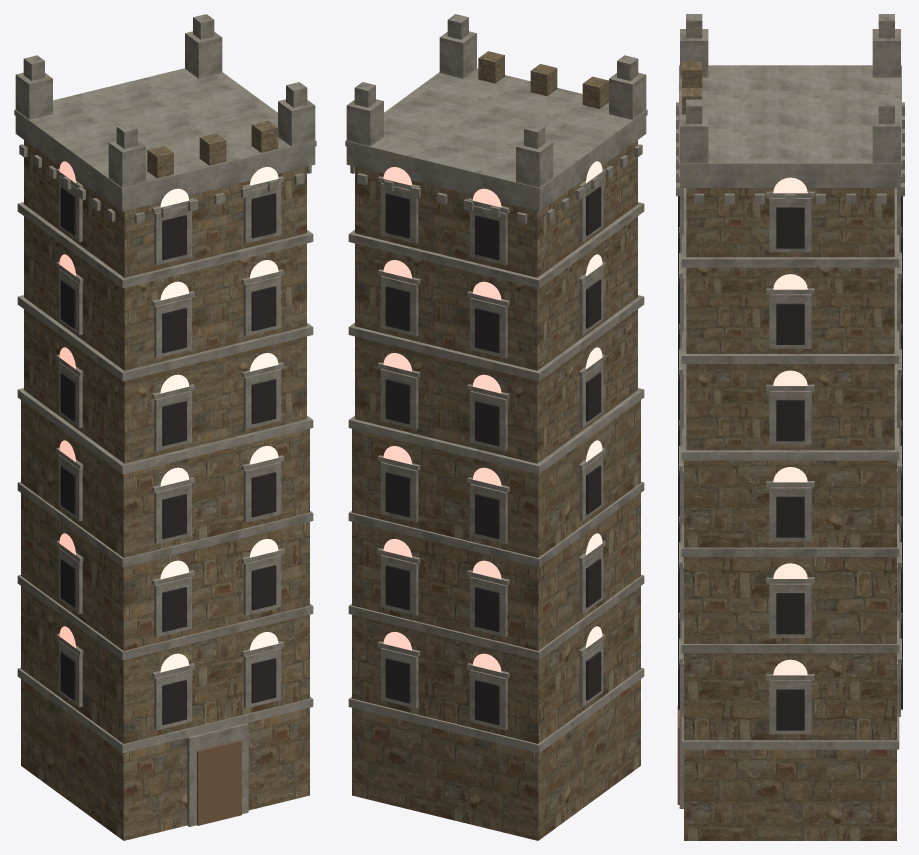
The model's file is taiz_house_b.glb.
The picture shows the model from 3 angles, left to right: view 1: azimuth 30°, elevation 25°; view 2: azimuth 150°, elevation 25°; view 3: azimuth 270°, elevation 25°; orthographic projection. The views are drawn at different scales.
Parts seen in each view (by area): view 1: taiz_house_b; view 2: taiz_house_b; view 3: taiz_house_b.
Part boxes in pixels (x1,y1,x2,y2): taiz_house_b: [14, 14, 316, 840]; taiz_house_b: [345, 14, 647, 840]; taiz_house_b: [676, 14, 904, 840].
Size of the model in its own units: 2.36 by 7.99 by 2.26.
Materials: 5 (2 with a texture image).
